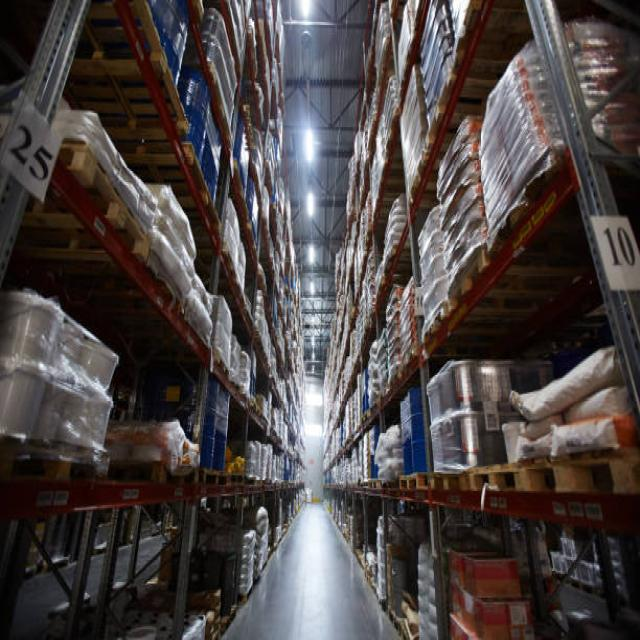Wooden-Pallets: (65, 141, 159, 271), (530, 443, 635, 506), (464, 459, 534, 496)
